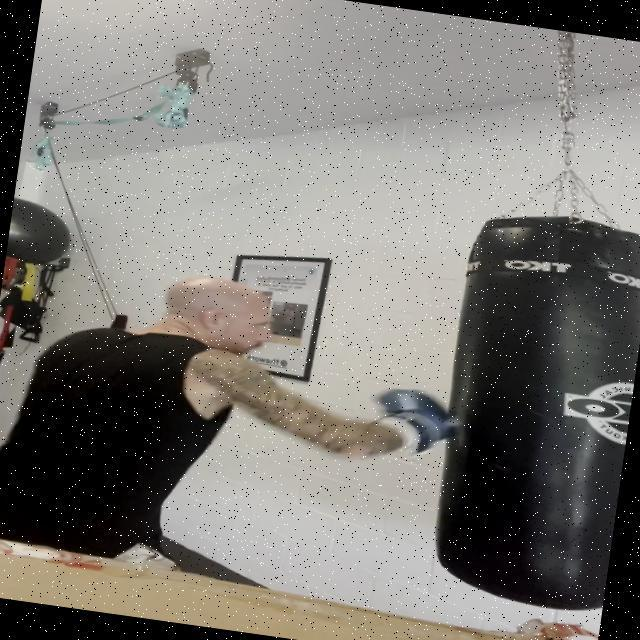punch: (20, 242, 470, 494)
